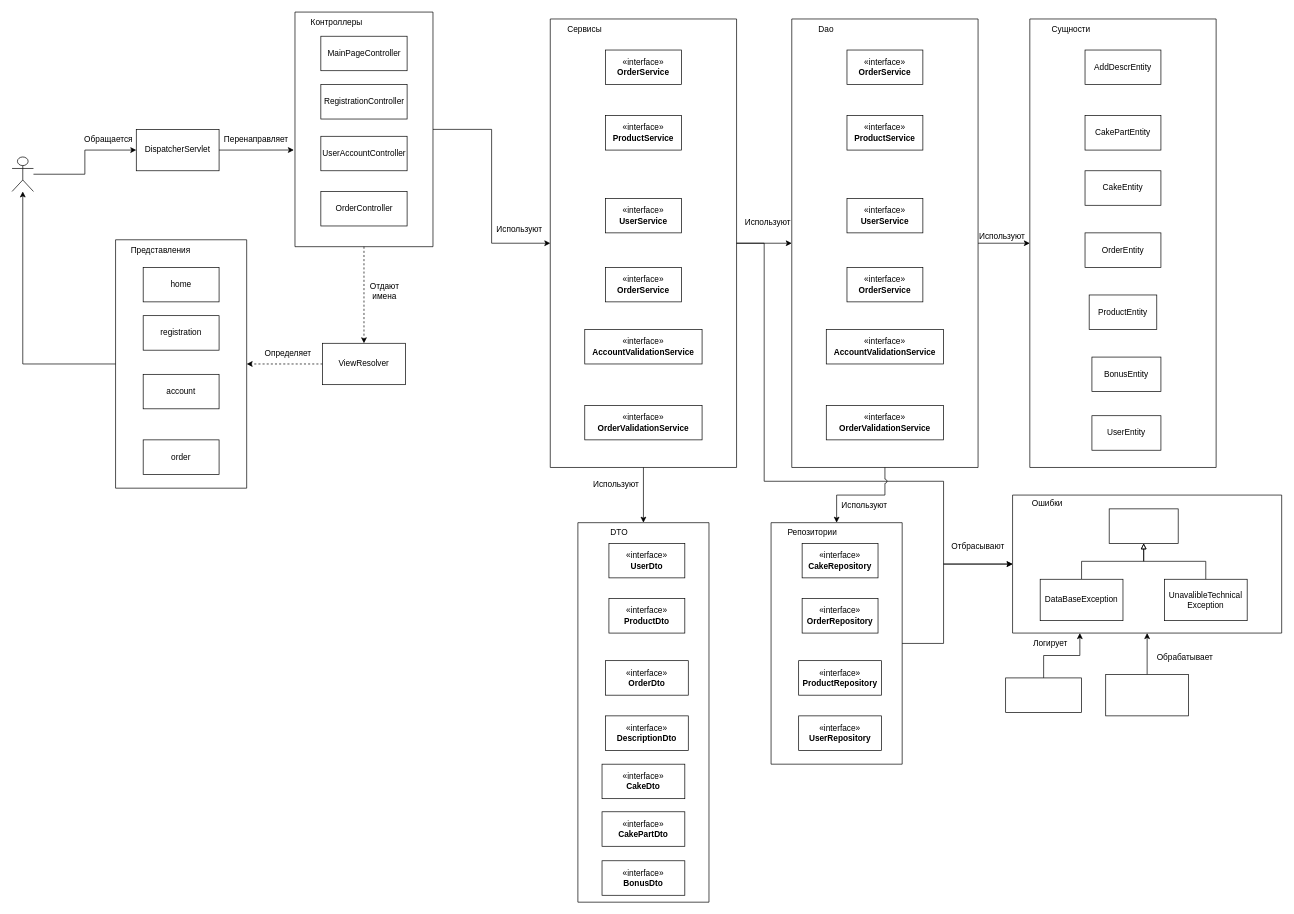
Image size: 1294x914. Some labels were removed from this diagram. The box of each missing label's shape, as (x1, y1, x2, y2) in pixels:
BaseException: (1108, 508, 1178, 543)
ExceptionHandler: (1105, 674, 1189, 716)
«interface» Logger: (1005, 677, 1082, 712)
